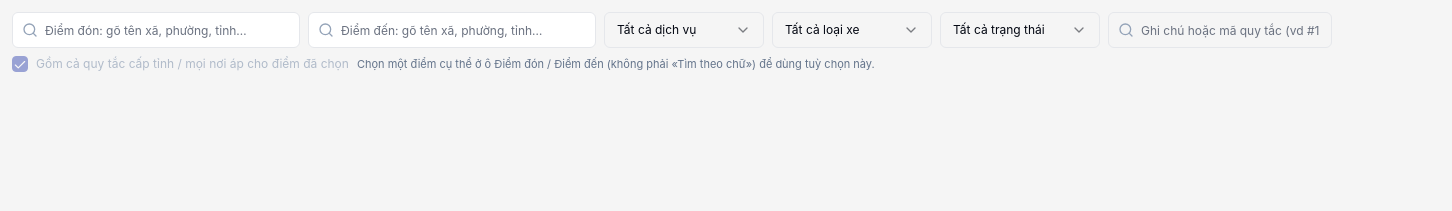
it: MacroSearchBar — «Xoá lọc» › chỉ MỘT ô điểm gõ dở cũng đủ; xoá chữ bằng tay ⇒ «Xoá lọc» ẩn lại
Type "phu" into the dropdown named "Điểm đến: tìm phường/xã, tỉnh hoặc điểm đặc biệt" at coordinates (452, 30), box x1=308 y1=12 x2=596 y2=48
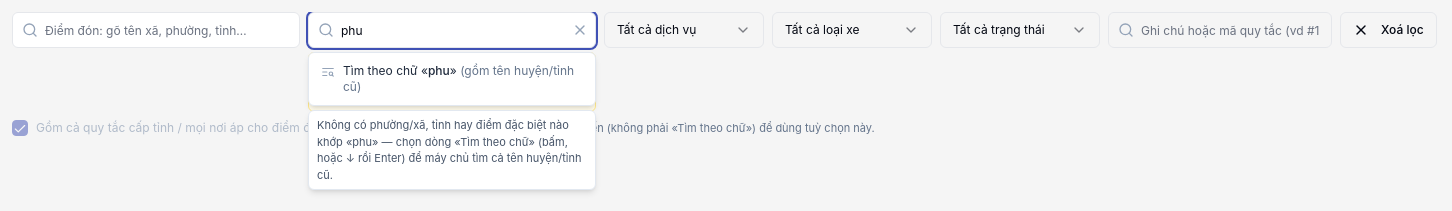
Expected: the button "Xoá lọc" is shown, x1=1340 y1=12 x2=1437 y2=48
Clear the dropdown named "Điểm đến: tìm phường/xã, tỉnh hoặc điểm đặc biệt" at coordinates (452, 30), box x1=308 y1=12 x2=596 y2=48
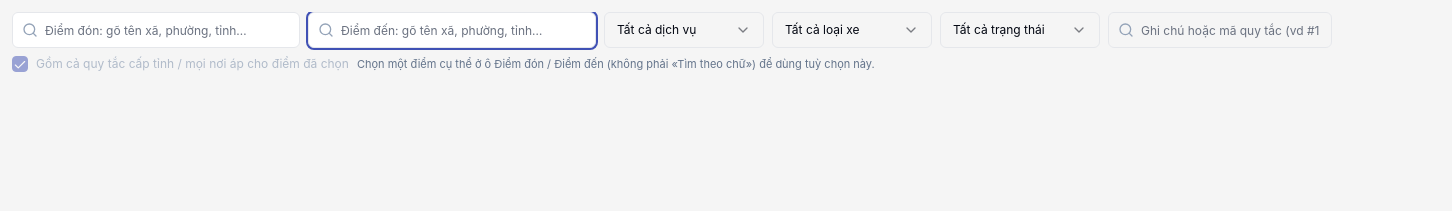
Expected: the button "Xoá lọc" is gone
